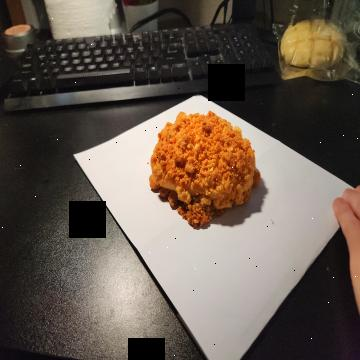soboru_bread: (147, 110, 257, 229)
